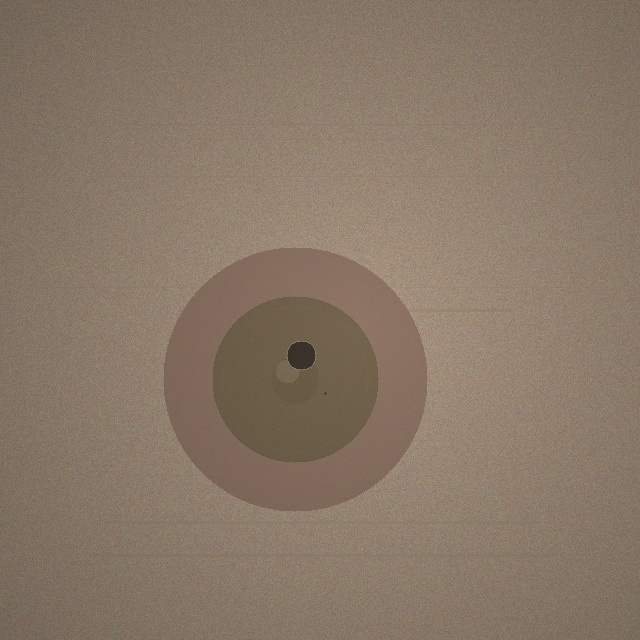shrinkage: (163, 247, 427, 511)
